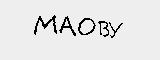А: (56, 15, 76, 39)
В: (96, 19, 109, 37)
М: (32, 12, 60, 34)
О: (75, 17, 97, 37)
У: (107, 19, 125, 41)
